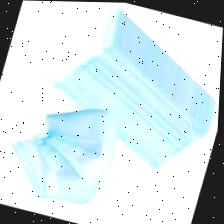mask: (0, 82, 131, 217)
